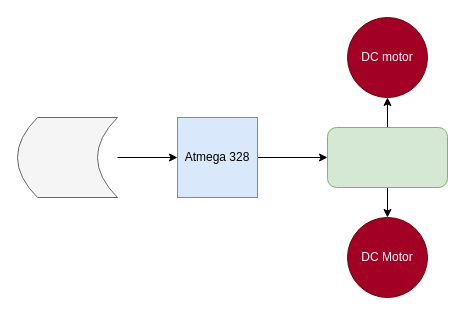
This 465x315 diagram has some shape labels left out. The shapes that lost their labels are listed below. From the top down, each one's box as (x1, y1, x2, y2) in pixels, then its label:
(16, 116, 118, 198): Ultrasonic Sensor
(326, 126, 448, 188): Motor Driver
